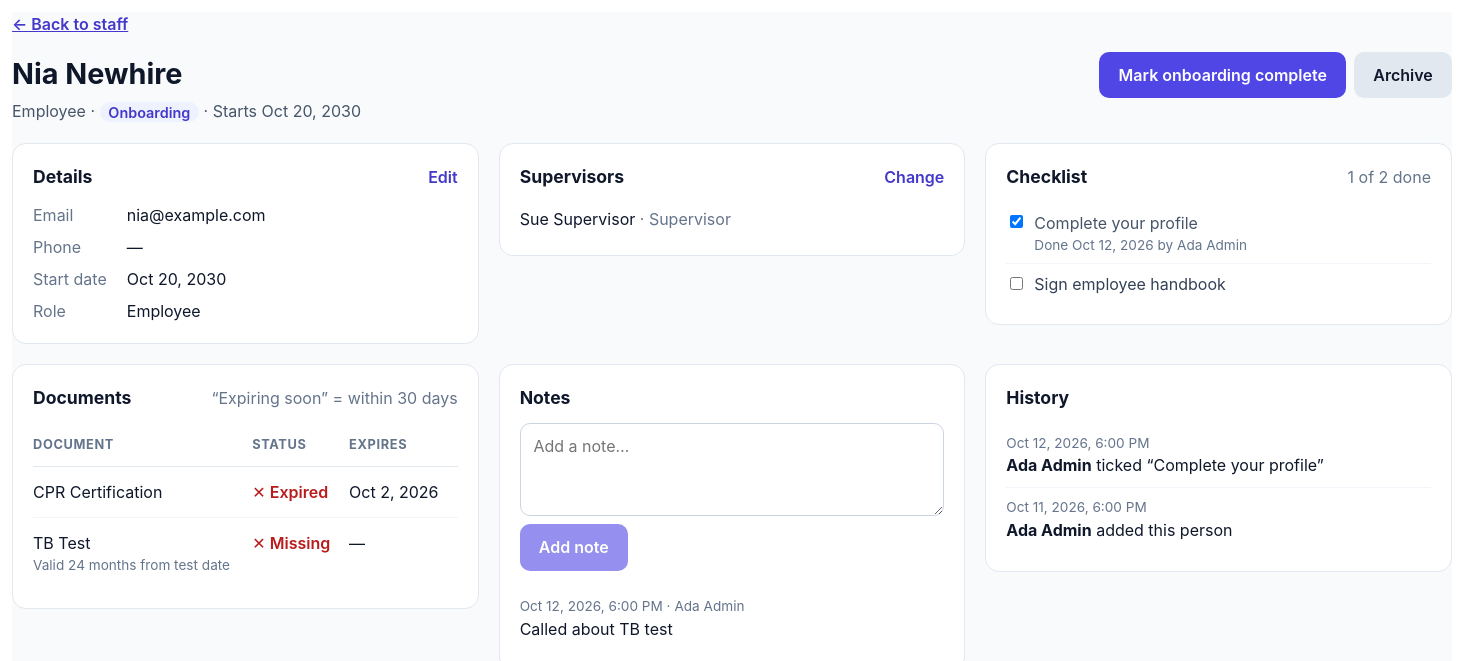
Test: PersonPage › admin actions › keeps the form open and shows the error when saving fails
Click the button "Edit" at (443, 177), box [428,165,458,189]
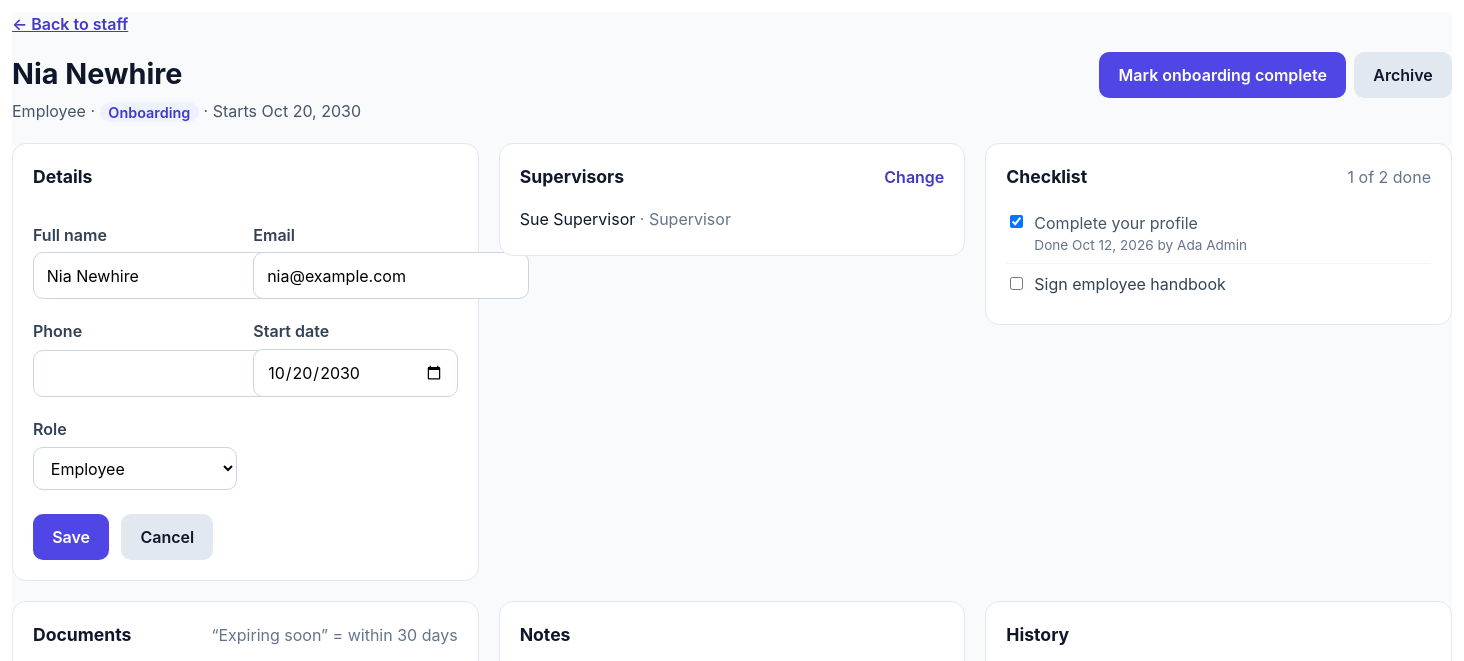
Click the button "Save" at (71, 537), box [33,514,109,560]
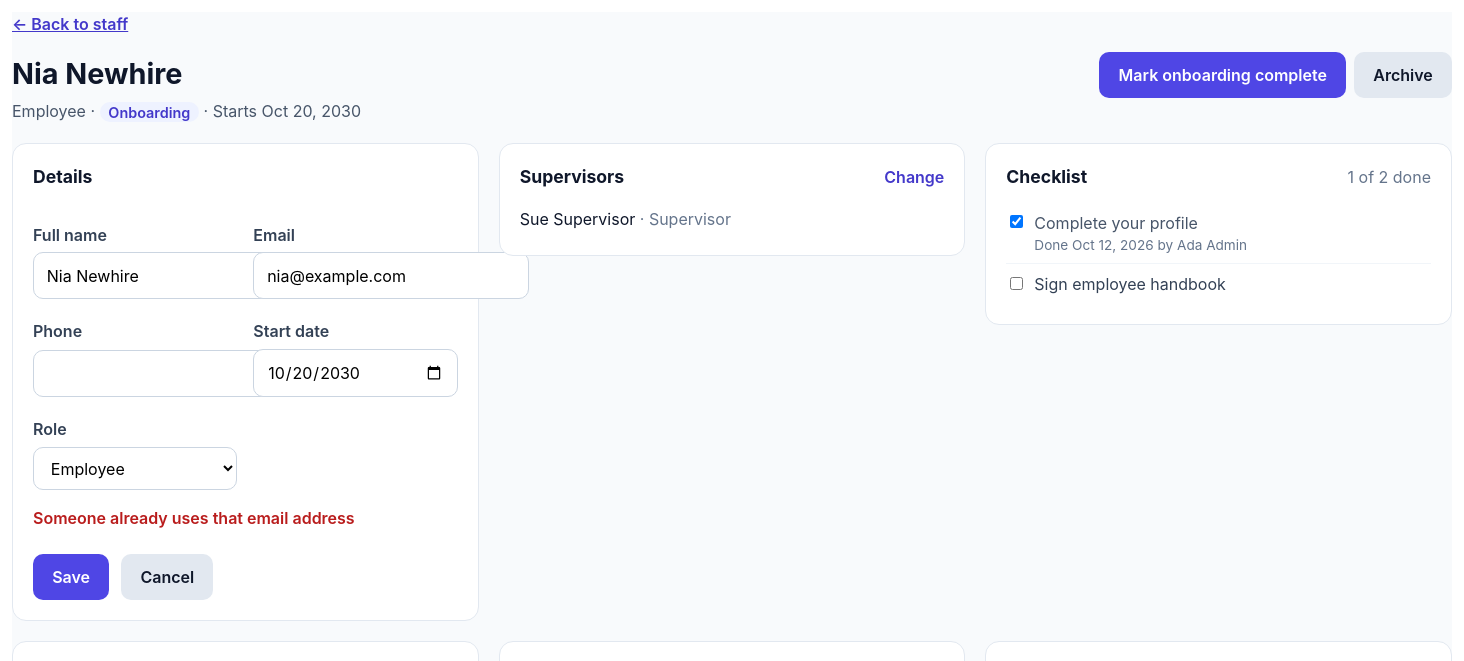
Now the field labelled "Full name" is shown, box [33,252,309,299]
Now the message reads "Someone already uses that email address", box [33,508,355,528]
